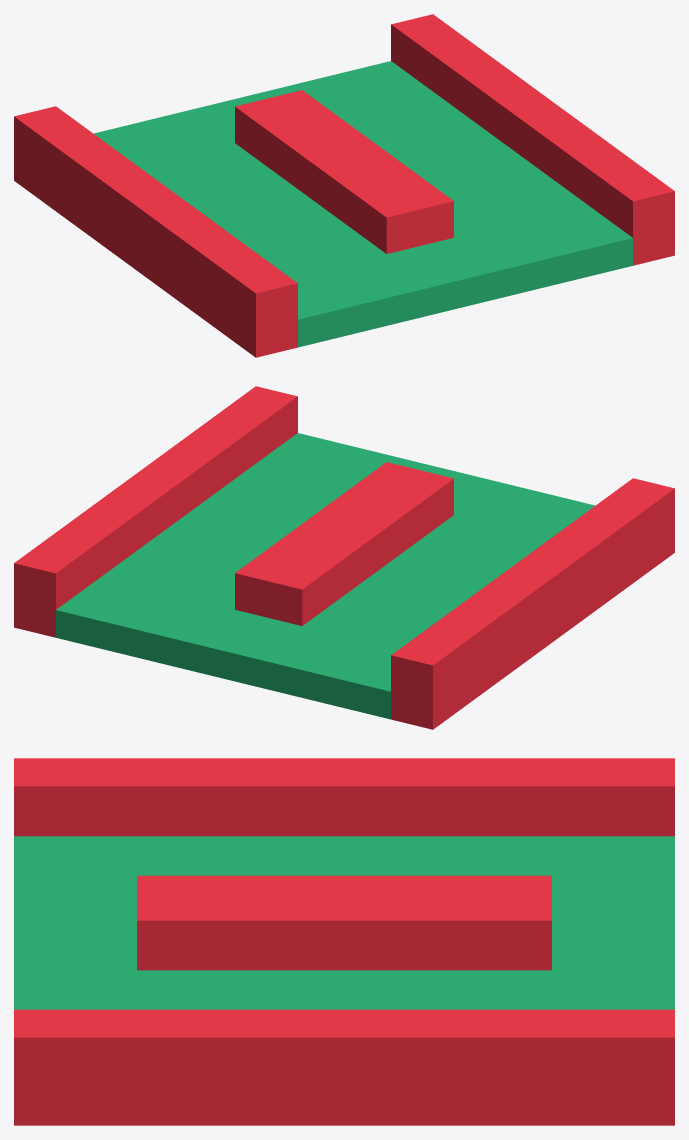
File: obstacleBlock.fbx
3 views of the same model, one above another, from view 1: azimuth 30°, elevation 25°; view 2: azimuth 150°, elevation 25°; view 3: azimuth 270°, elevation 25° (orthographic). The views are drawn at different scales.
Parts seen in each view (by area): view 1: obstacleBlock; view 2: obstacleBlock; view 3: obstacleBlock.
Boxes of the visible parts, bbox=[...] form: obstacleBlock: bbox=[14, 14, 674, 357]; obstacleBlock: bbox=[14, 386, 674, 729]; obstacleBlock: bbox=[14, 758, 674, 1125].
Size of the model in its own units: 10 by 1.47 by 10.
